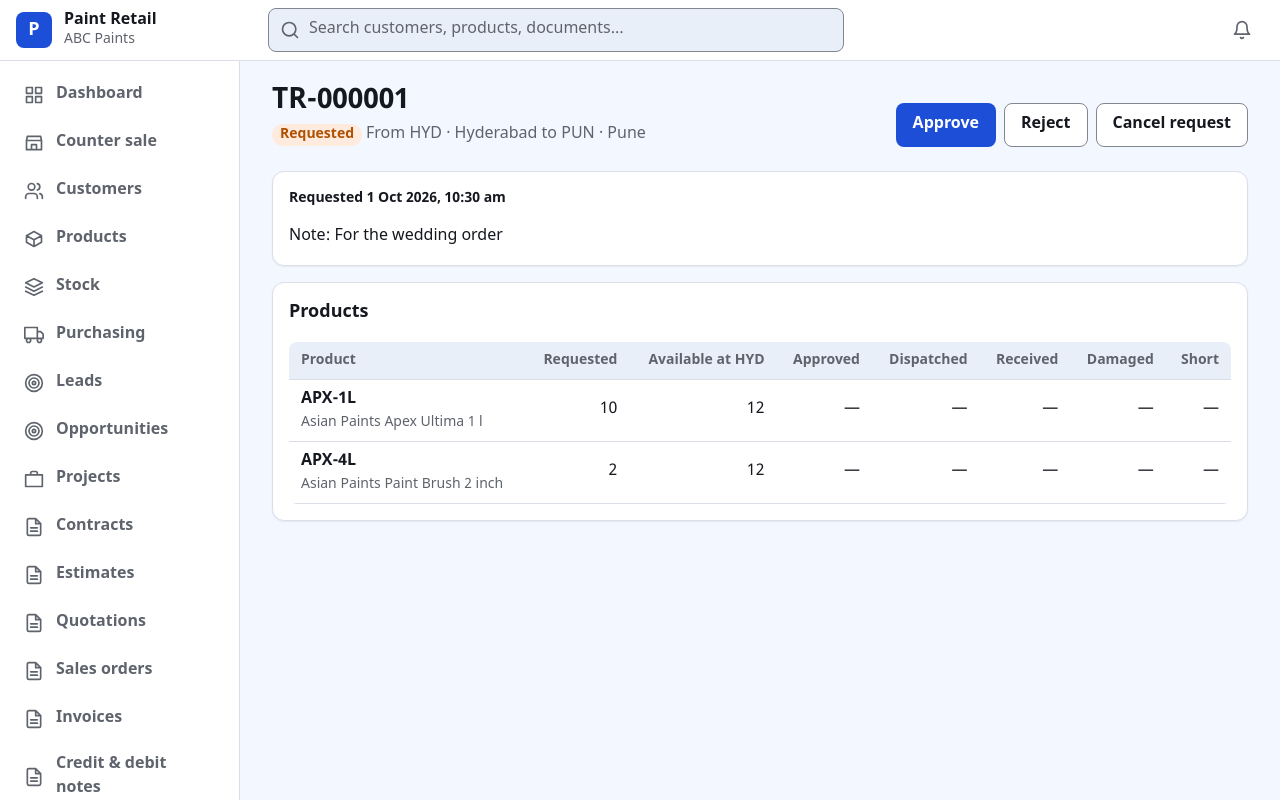
Test: TransferDetailPage › shows a request with what the sender has, and lets the sender approve less
The image size is (1280, 800).
expect the heading "TR-000001" is shown: met, box [272,83,410,119]
expect the text "From HYD · Hyderabad to PUN · Pune" is shown: met, box [366,123,646,147]
Click the button with aria-label "Approve TR-000001" at (946, 125), box [896,103,996,147]
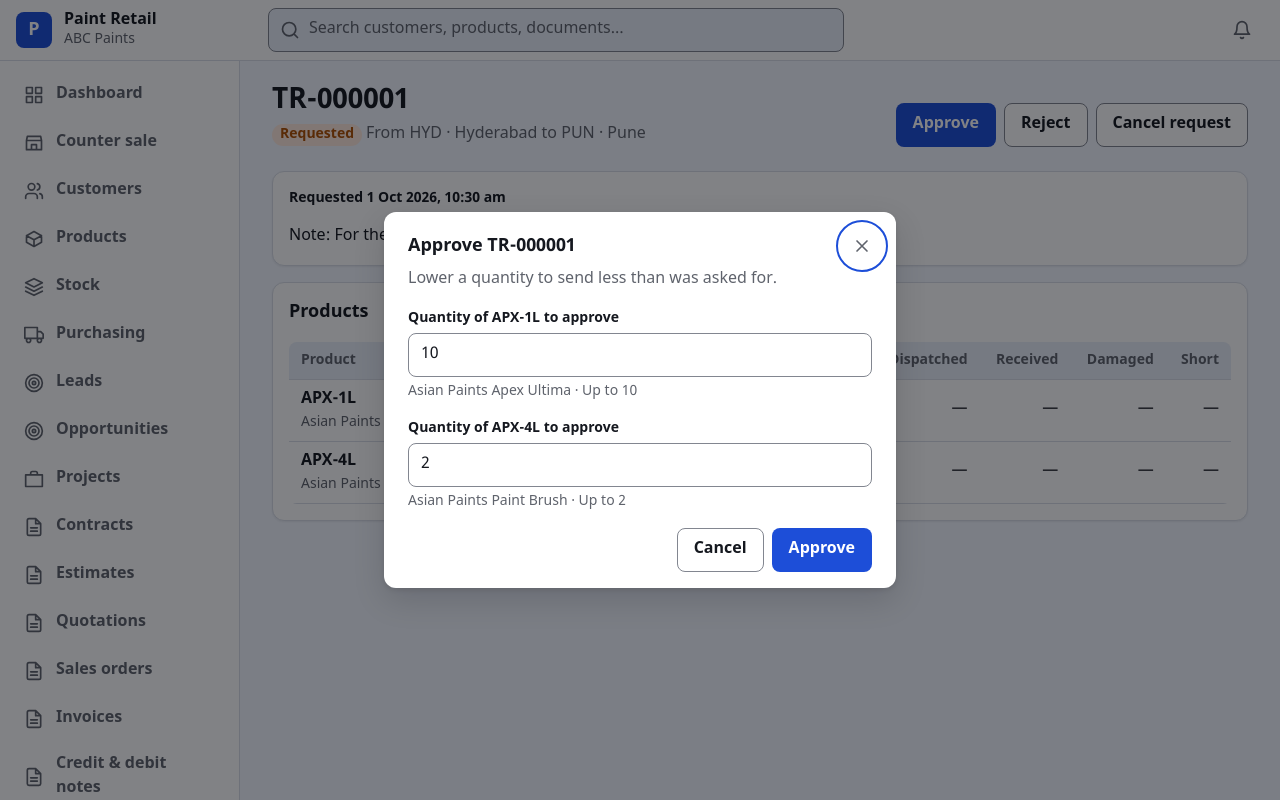
expect the field labelled "Quantity of APX-1L to approve" holds "10": met
Replace the text in the field labelled "Quantity of APX-1L to approve" with "11" at (640, 355), box [408,333,872,377]
Replace the text in the field labelled "Quantity of APX-4L to approve" with "x" at (640, 465), box [408,443,872,487]
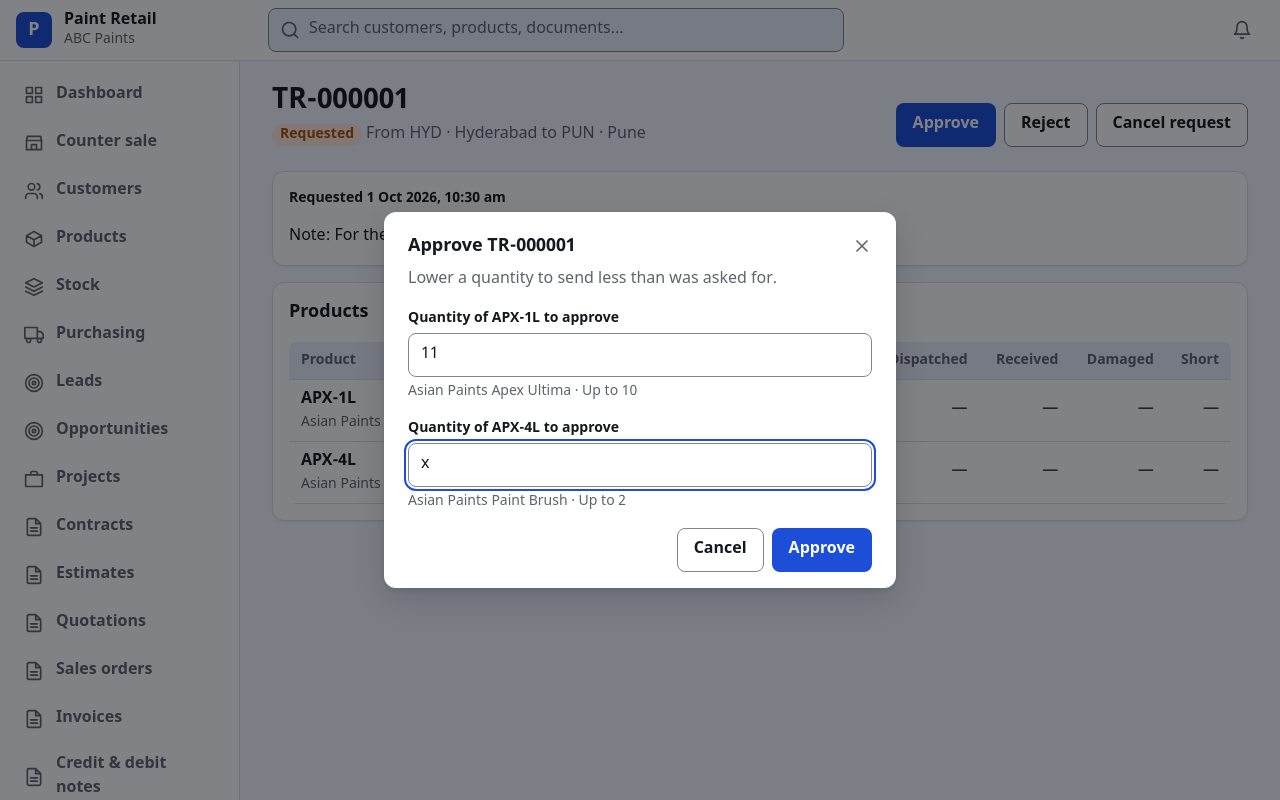
Click the button "Approve" at (822, 550), box [772,528,872,572]
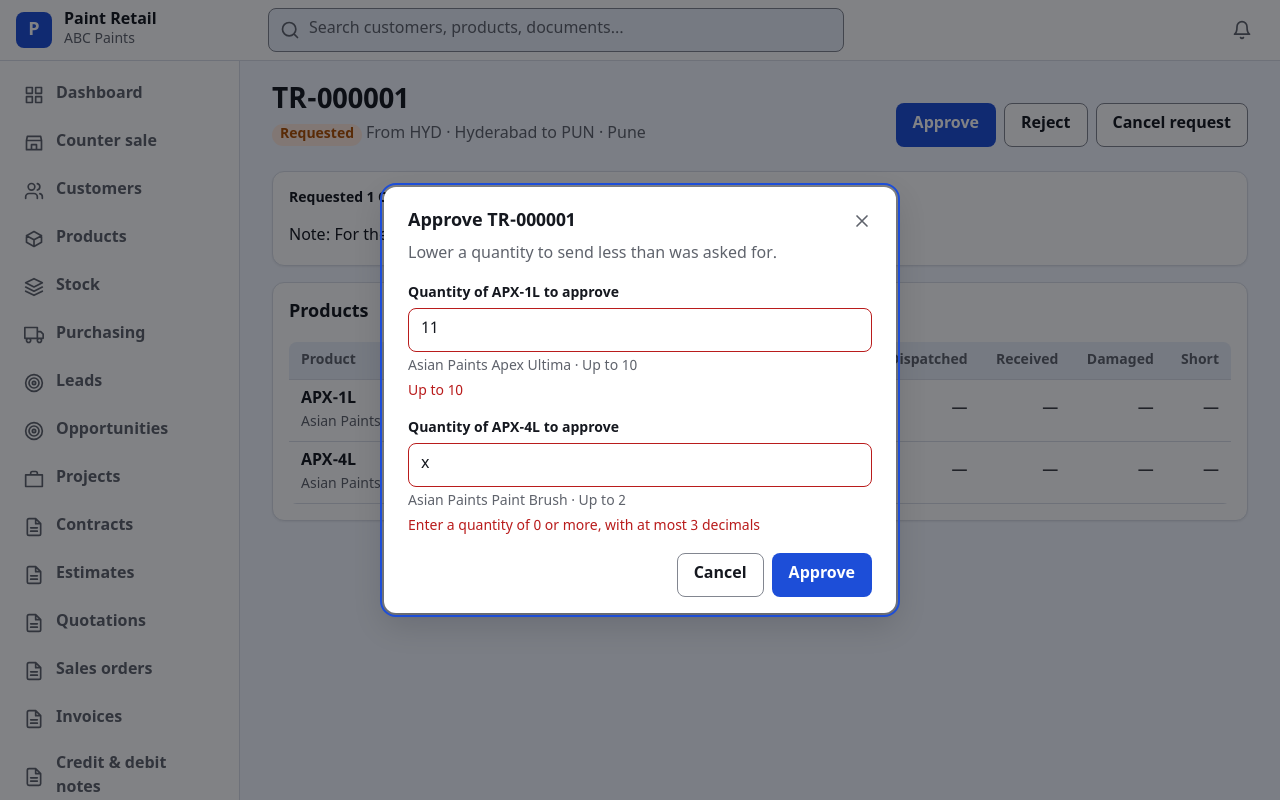
expect the text "Up to 10" is shown: met, box [408,382,463,401]
expect the text "Enter a quantity of 0 or more, with at most 3 decimals" is shown: met, box [408,517,760,536]
Replace the text in the field labelled "Quantity of APX-1L to approve" with "8" at (640, 330), box [408,308,872,352]
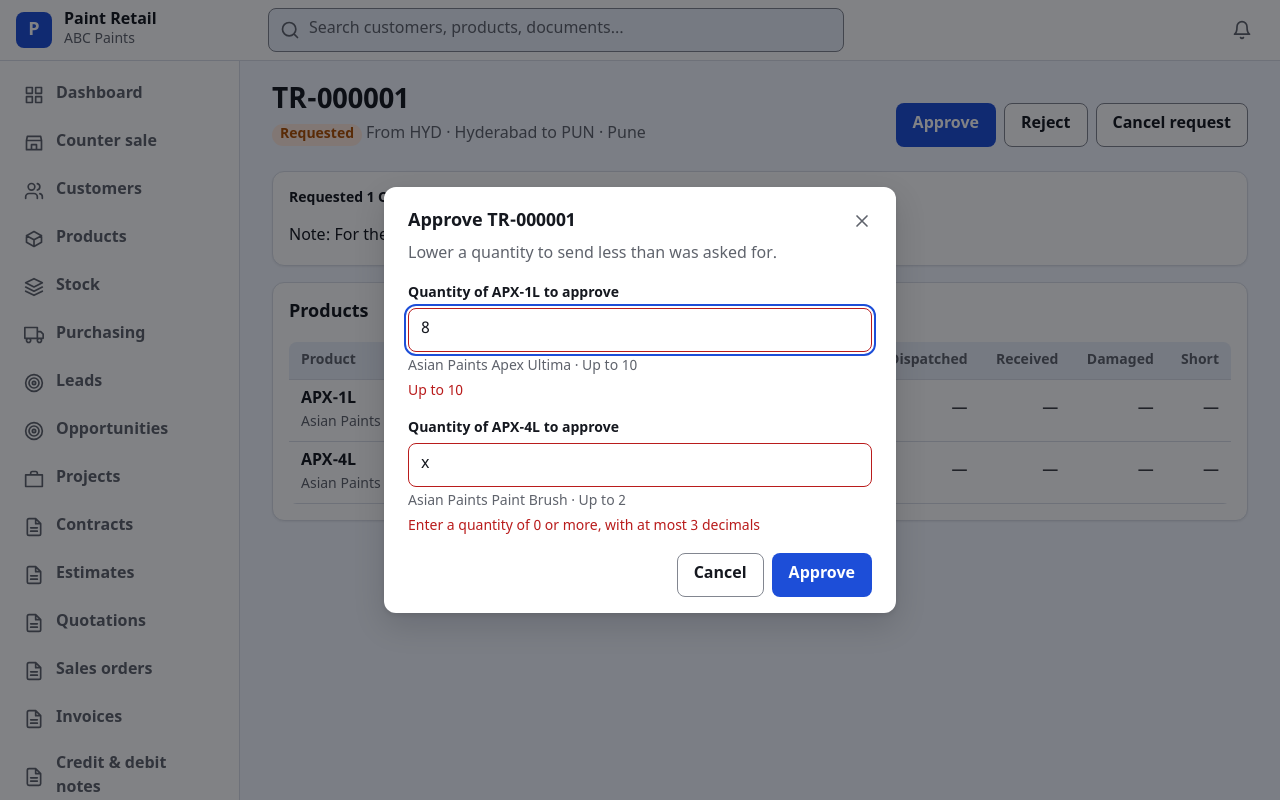
Replace the text in the field labelled "Quantity of APX-4L to approve" with "0" at (640, 465), box [408,443,872,487]
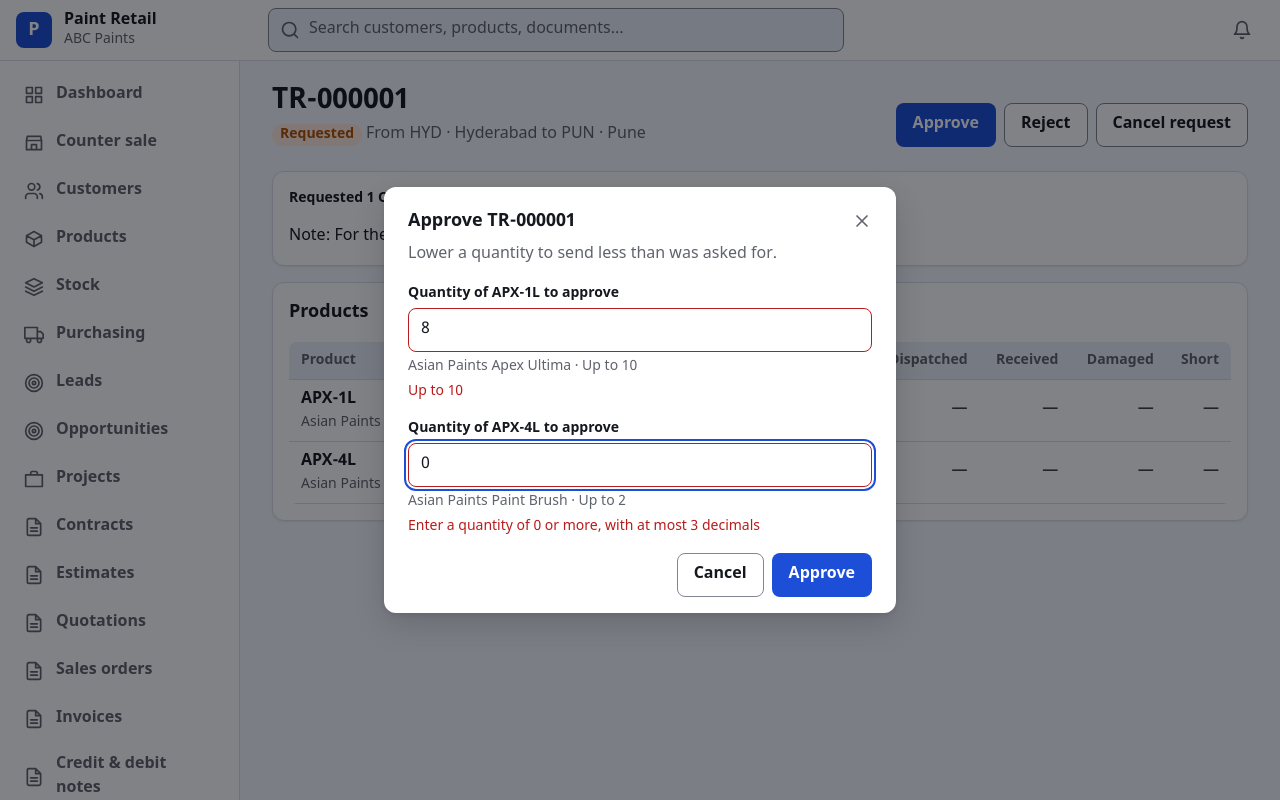
Click the button "Approve" at (822, 575), box [772,553,872,597]
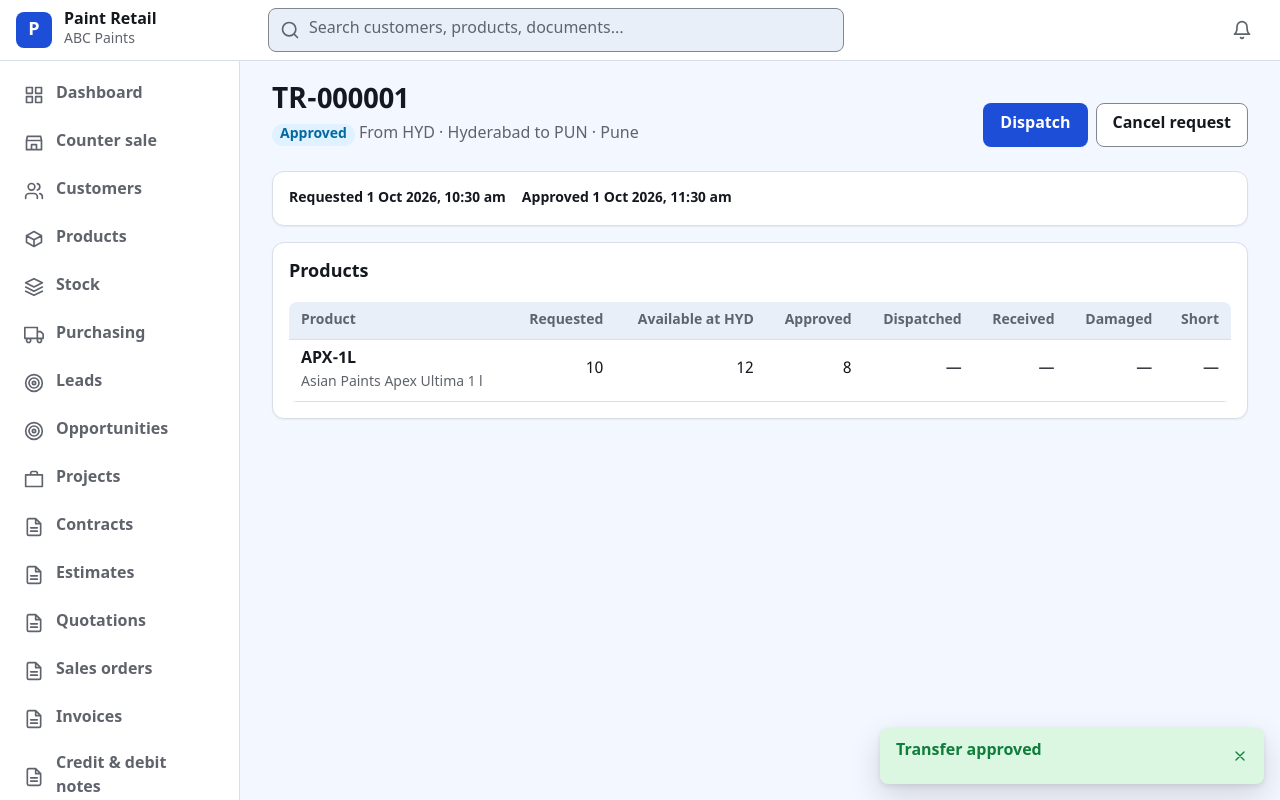
expect the text "Transfer approved" is shown: met, box [896,741,1042,762]
expect the button with aria-label "Dispatch TR-000001" is shown: met, box [983,103,1088,147]
expect the list named "Progress" shows "Approved": met, box [522,189,732,208]
